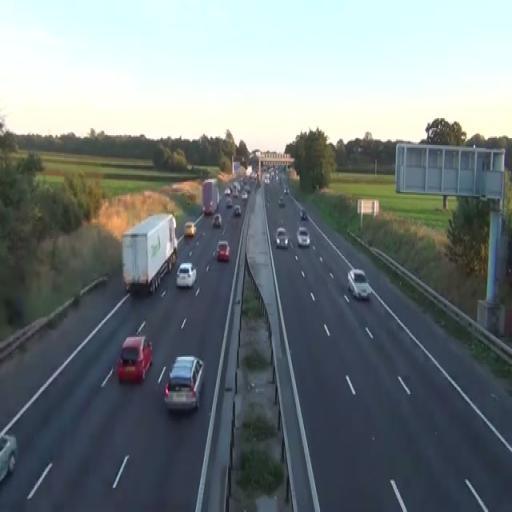Car: (164, 355, 205, 413), (116, 332, 154, 383), (0, 432, 20, 486), (347, 269, 371, 301), (176, 262, 197, 288), (275, 226, 289, 250), (217, 240, 230, 262), (297, 227, 310, 248), (184, 219, 197, 239), (212, 214, 222, 228)
Truck: (121, 213, 178, 295), (202, 179, 219, 216)
